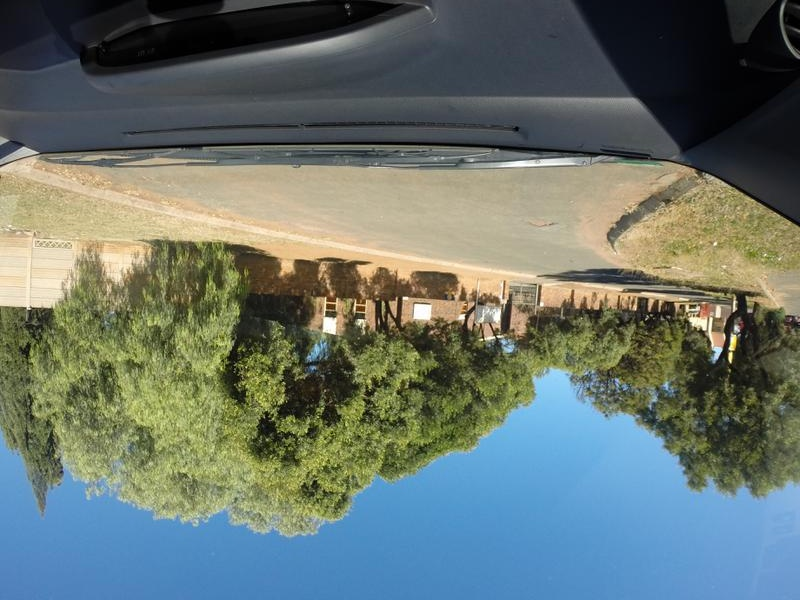pothole: (525, 216, 562, 227)
